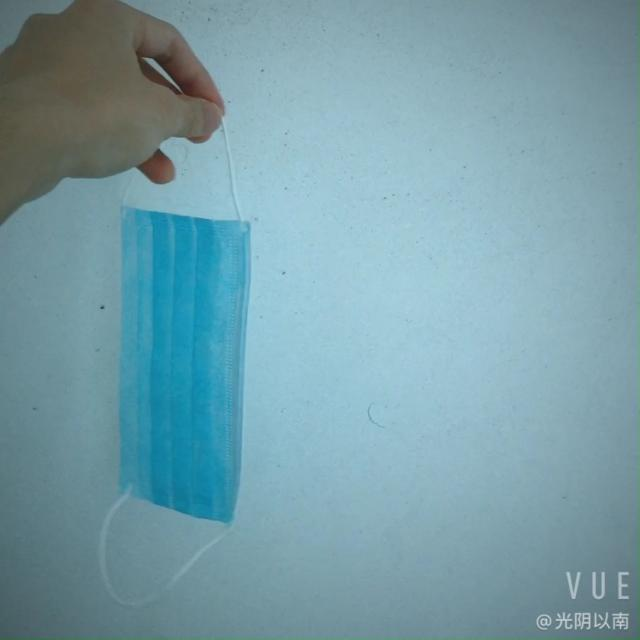non-organic waste: (86, 194, 267, 526)
